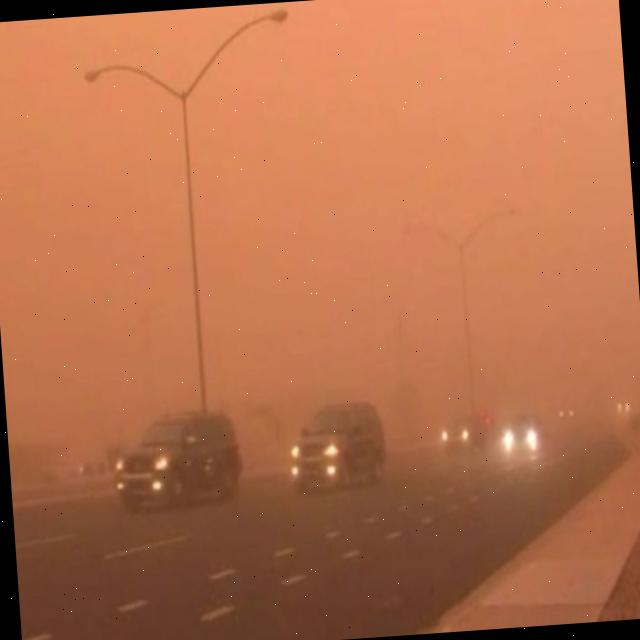car: (110, 404, 247, 514), (286, 401, 388, 492), (499, 412, 545, 460), (441, 408, 489, 449), (556, 397, 580, 421)
